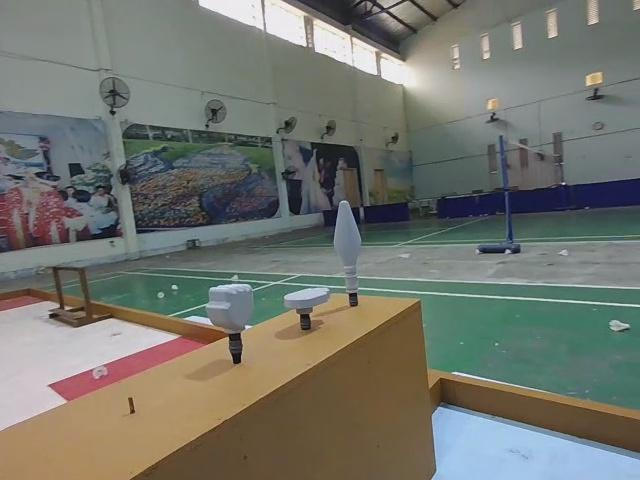Fist: (203, 282, 253, 365)
Hand: (282, 286, 330, 332)
Sph: (333, 200, 365, 310)
